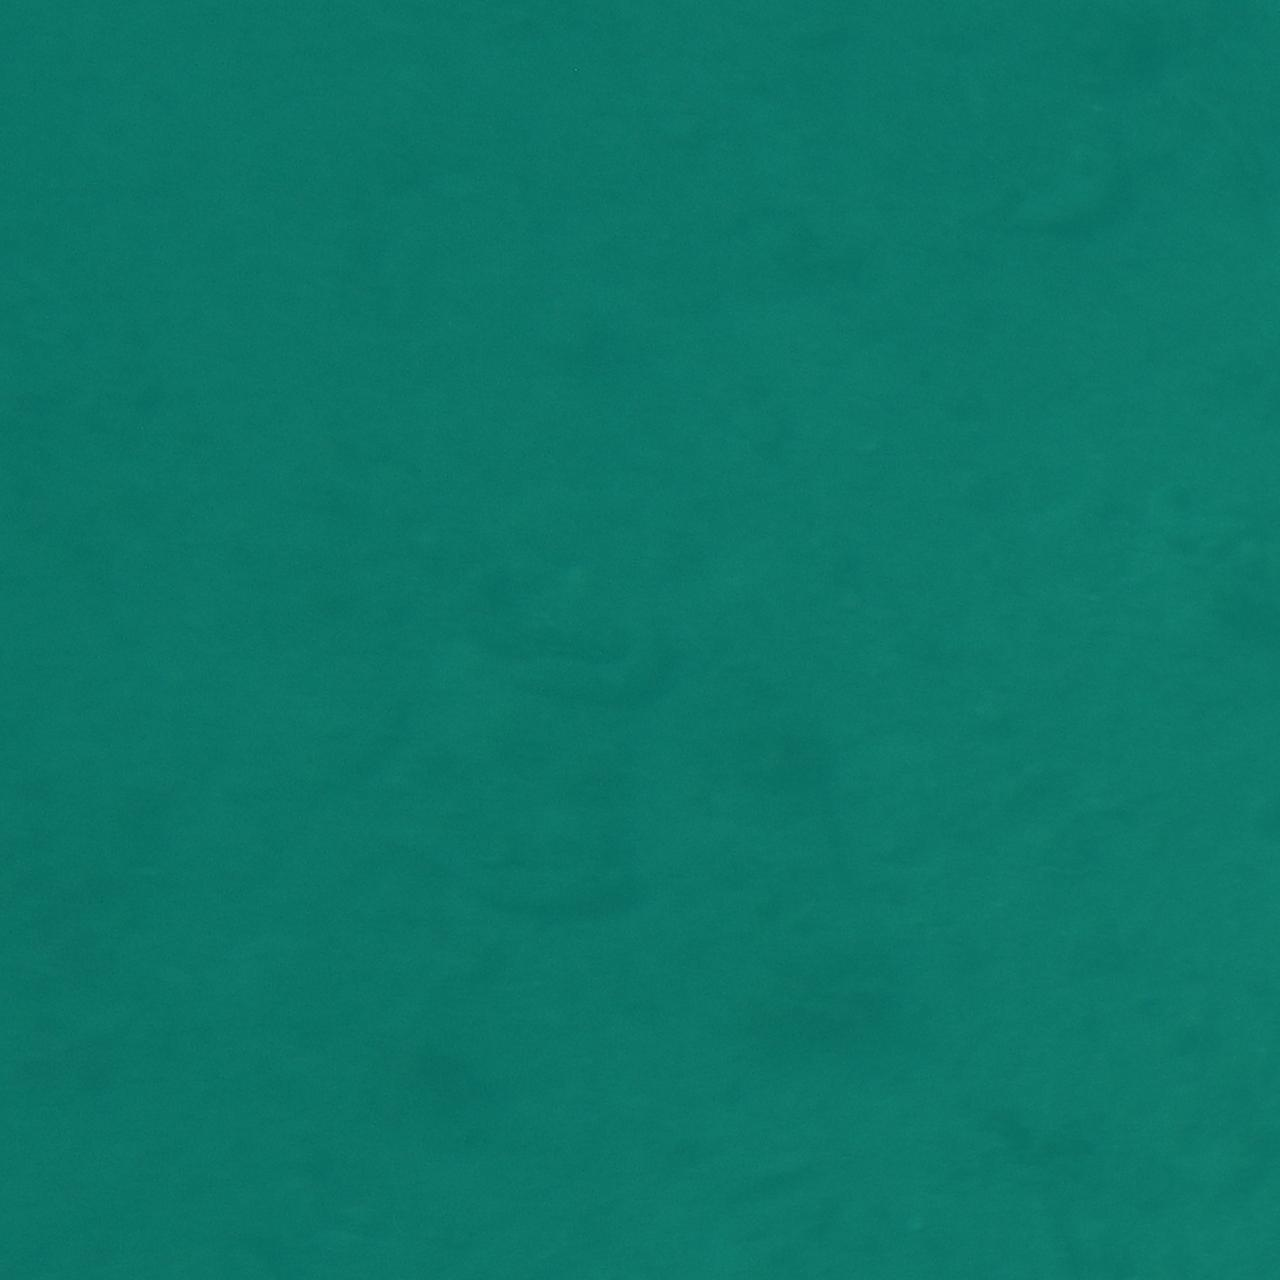Holothuria tubulosa: (445, 535, 724, 745)
